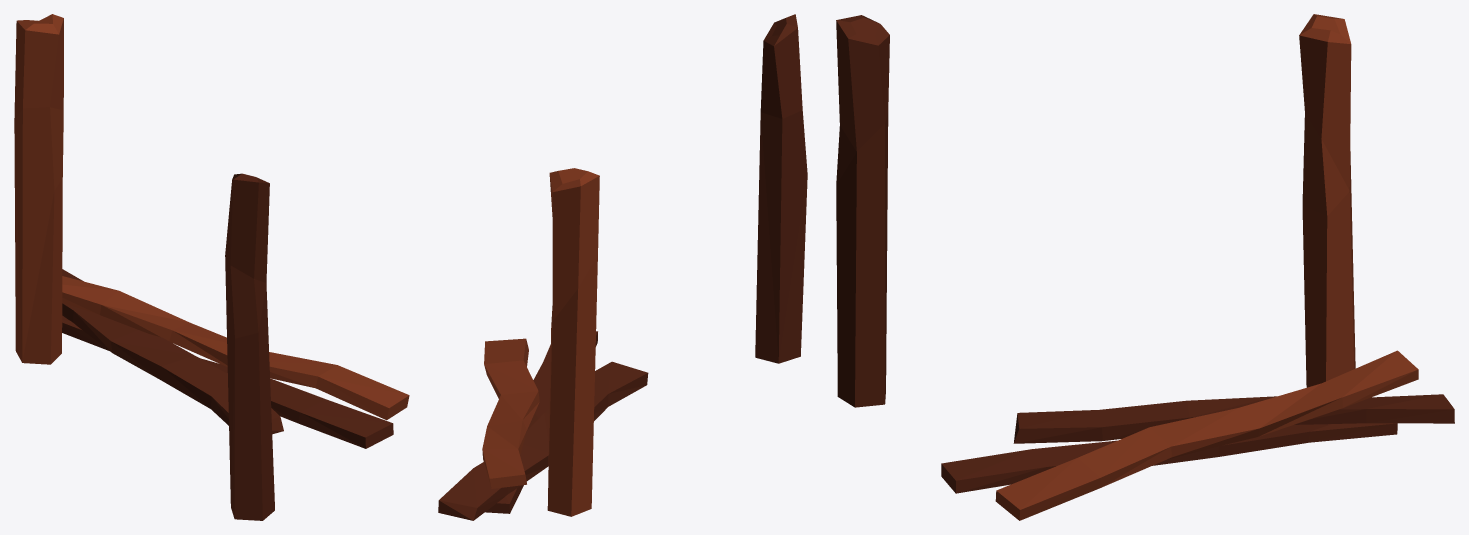
File: FenceUnfinished.FBX
3 views of the same model, side by side, from view 1: azimuth 30°, elevation 25°; view 2: azimuth 150°, elevation 25°; view 3: azimuth 270°, elevation 25° (orthographic). The views are drawn at different scales.
Parts seen in each view (by area): view 1: FenceStart_004, FenceStart_003, Fence_012, Fence_010, Fence_011; view 2: FenceStart_004, FenceStart_003, Fence_012, Fence_010, Fence_011; view 3: FenceStart_003, FenceStart_004, Fence_012, Fence_010, Fence_011.
Part boxes in pixels (x1,y1,x2,y2): FenceStart_004: [14, 14, 63, 364]; FenceStart_003: [225, 173, 274, 520]; Fence_012: [62, 276, 409, 420]; Fence_010: [62, 269, 283, 434]; Fence_011: [62, 315, 393, 448]; FenceStart_004: [547, 168, 599, 516]; FenceStart_003: [755, 14, 807, 363]; Fence_012: [482, 338, 539, 488]; Fence_010: [438, 361, 648, 520]; Fence_011: [485, 331, 597, 513]; FenceStart_003: [836, 15, 889, 407]; FenceStart_004: [1299, 14, 1355, 387]; Fence_012: [995, 350, 1418, 520]; Fence_010: [1013, 394, 1454, 443]; Fence_011: [941, 423, 1397, 493].
Bounding box in the file's own units: 6.82 × 8.85 × 13.16.
